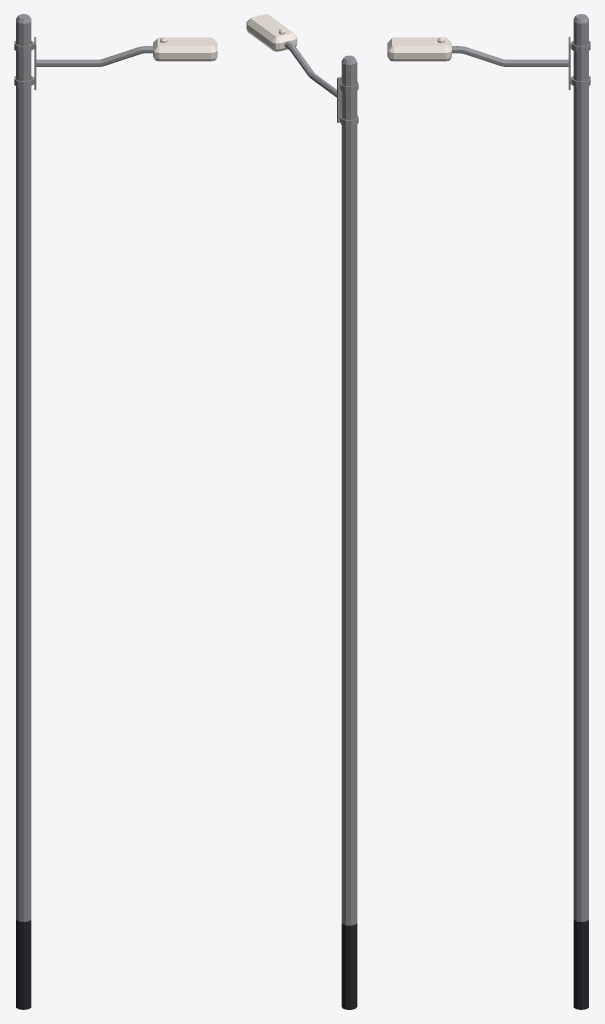
Rendered from SM_Street_SecurityLightPole_Galv_01.gltf.
3 views of the same model, side by side, from view 1: azimuth 90°, elevation 25°; view 2: azimuth 210°, elevation 25°; view 3: azimuth 270°, elevation 25° (orthographic). The views are drawn at different scales.
Parts seen in each view (by area): view 1: SM_Street_SecurityLightPole_Galv_01; view 2: SM_Street_SecurityLightPole_Galv_01; view 3: SM_Street_SecurityLightPole_Galv_01.
Boxes of the visible parts, x1,y1,x2,y2 form: SM_Street_SecurityLightPole_Galv_01: (14,14,217,1009); SM_Street_SecurityLightPole_Galv_01: (246,14,358,1009); SM_Street_SecurityLightPole_Galv_01: (387,14,590,1009).
Bounding box in the file's own units: 0.14 × 5.07 × 0.9429.
1 material, 1 textured.
